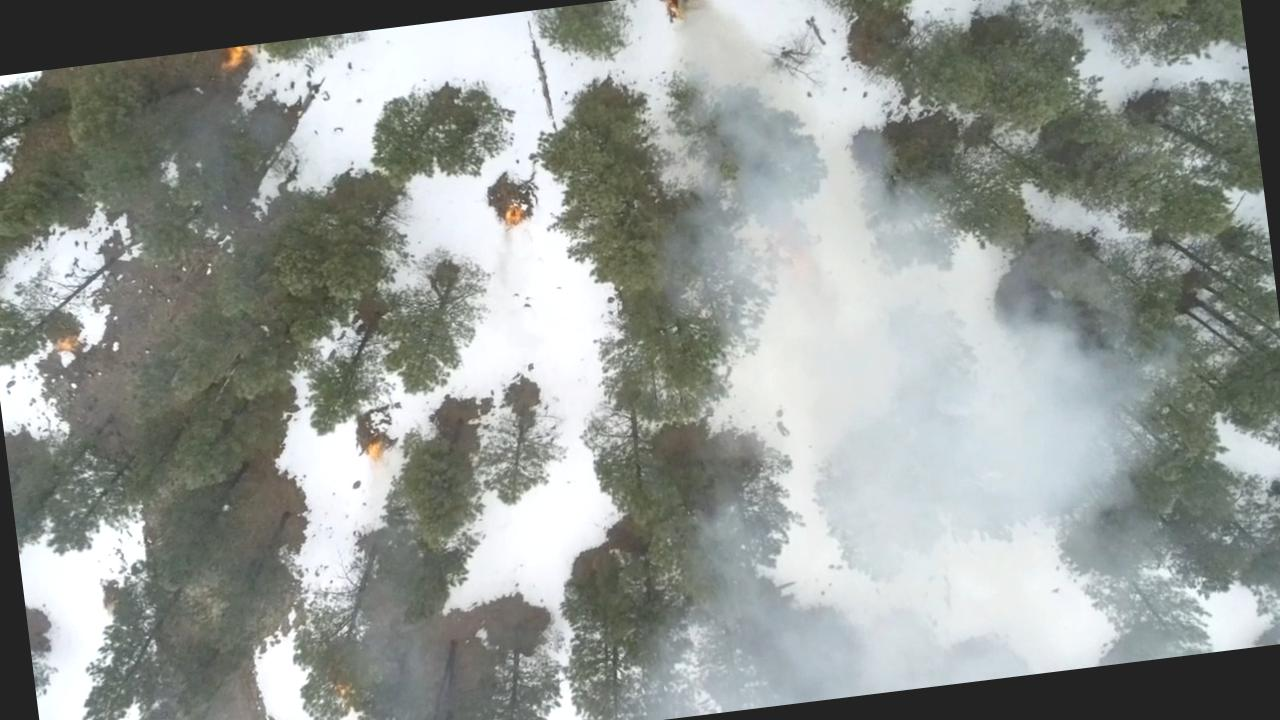fire: (216, 45, 262, 76), (495, 206, 530, 244), (660, 0, 720, 22), (359, 445, 391, 472)
smoke: (599, 377, 1280, 720), (648, 118, 1112, 444)
